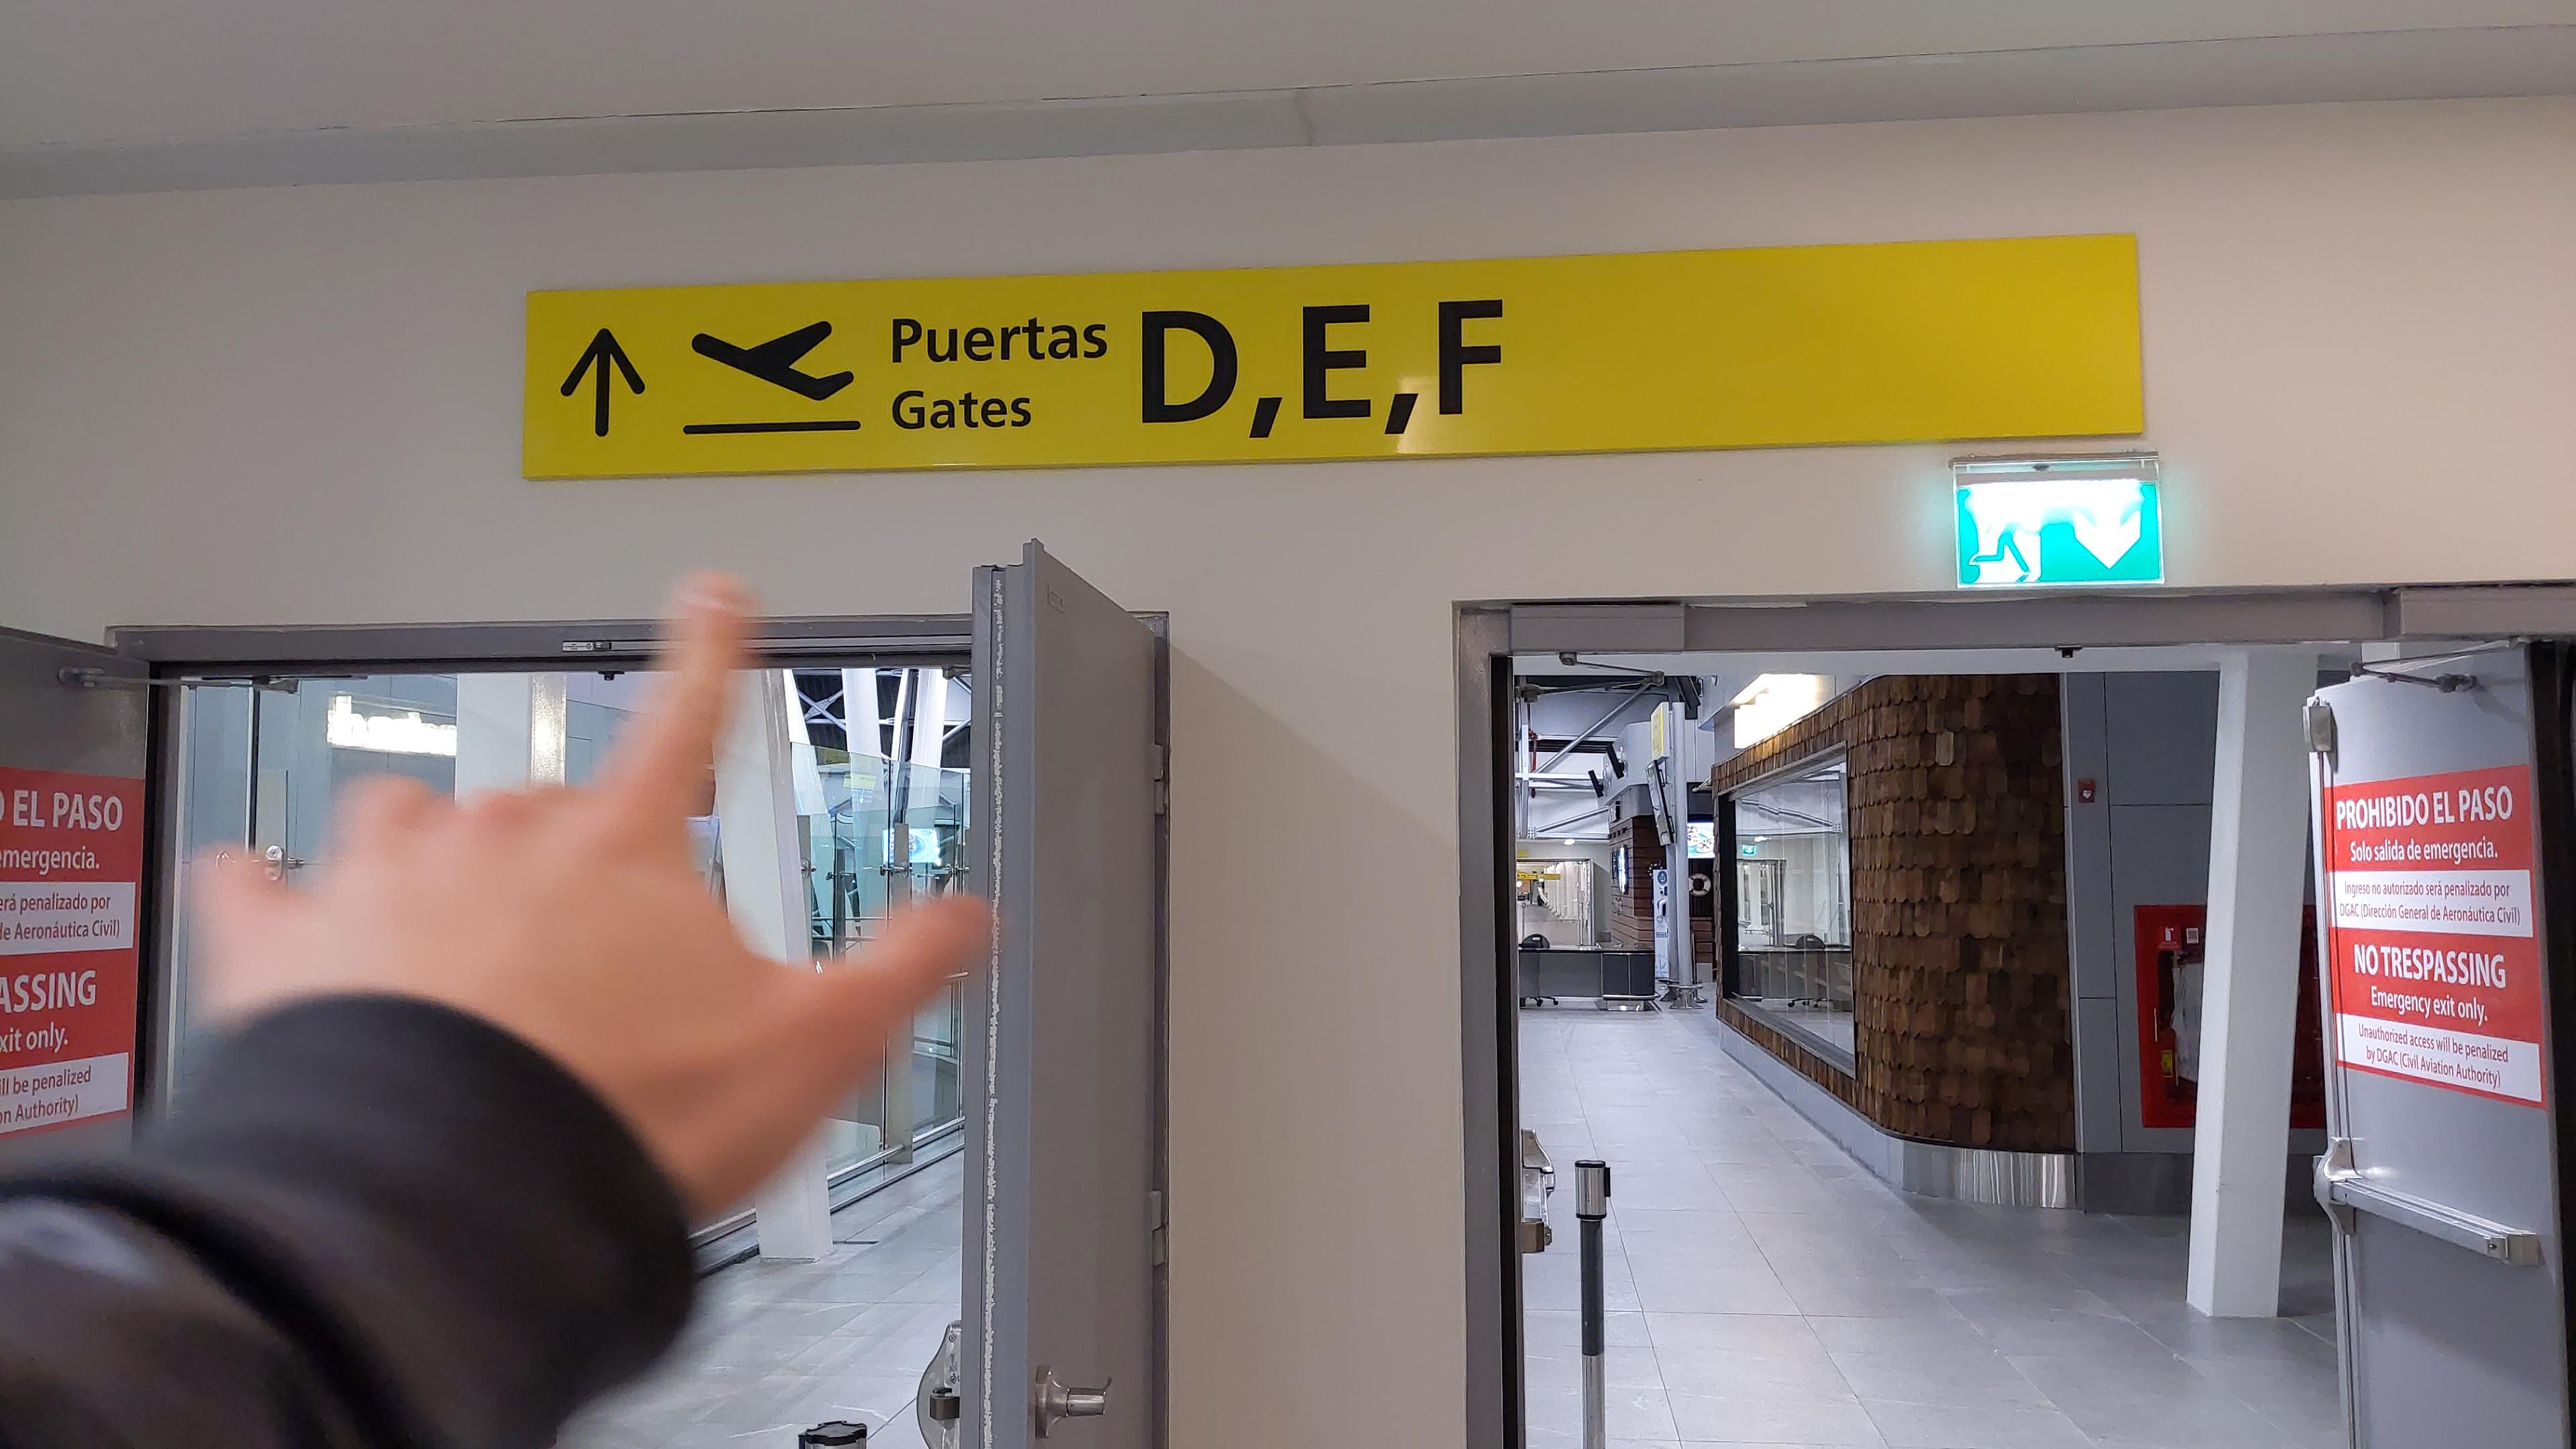airplane symbol: (688, 318, 856, 407)
emergency down arrow: (2068, 508, 2148, 573)
emergency exit: (1967, 517, 2049, 584)
extinguisher symbol: (2162, 925, 2174, 941)
no trespassing: (2330, 761, 2523, 1104), (0, 784, 131, 1146)
thin up arrow: (556, 324, 651, 441)
